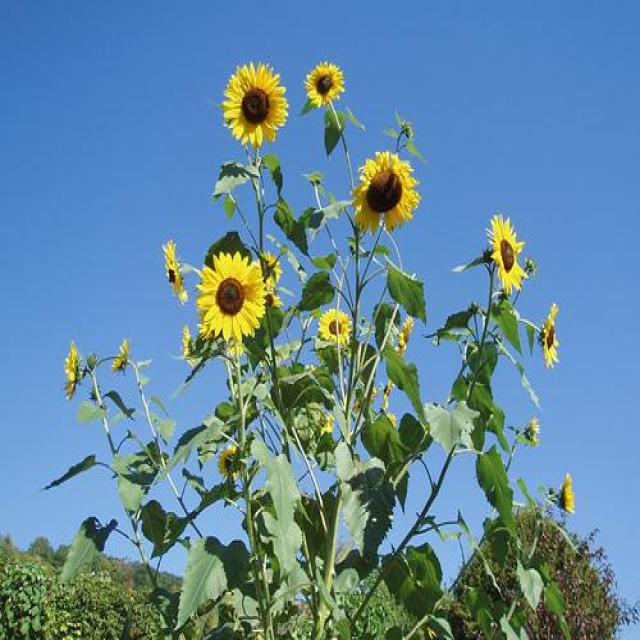sunflower: (197, 250, 268, 346), (350, 150, 422, 240), (221, 61, 287, 144), (300, 56, 341, 101)
